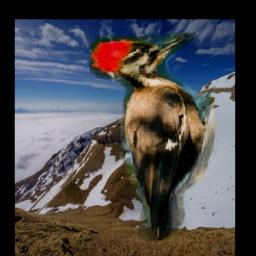Woodpecker: (90, 33, 217, 241)
